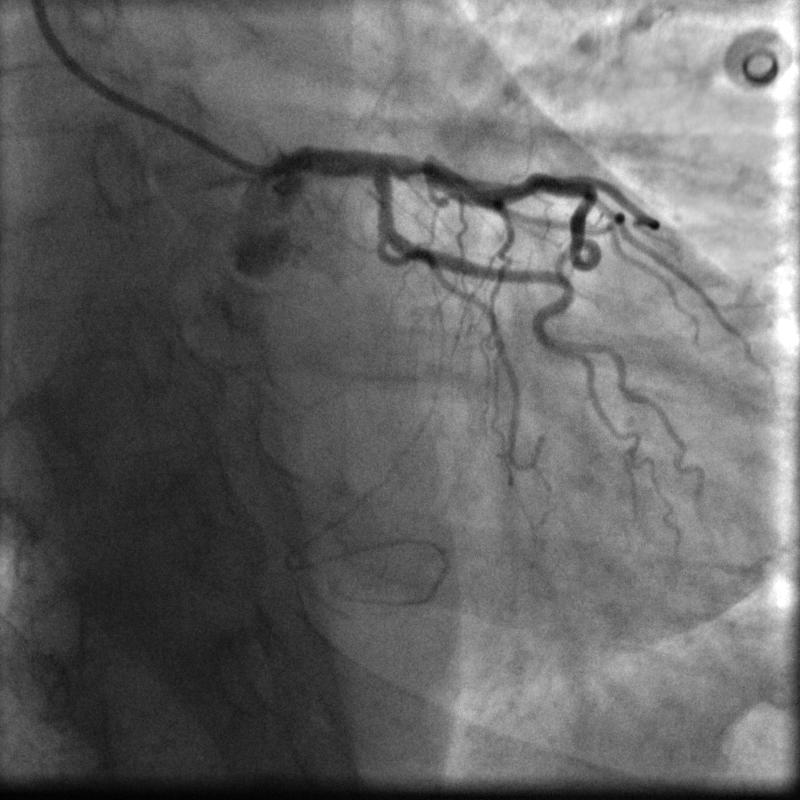Stenosis: (400, 150, 430, 180)
